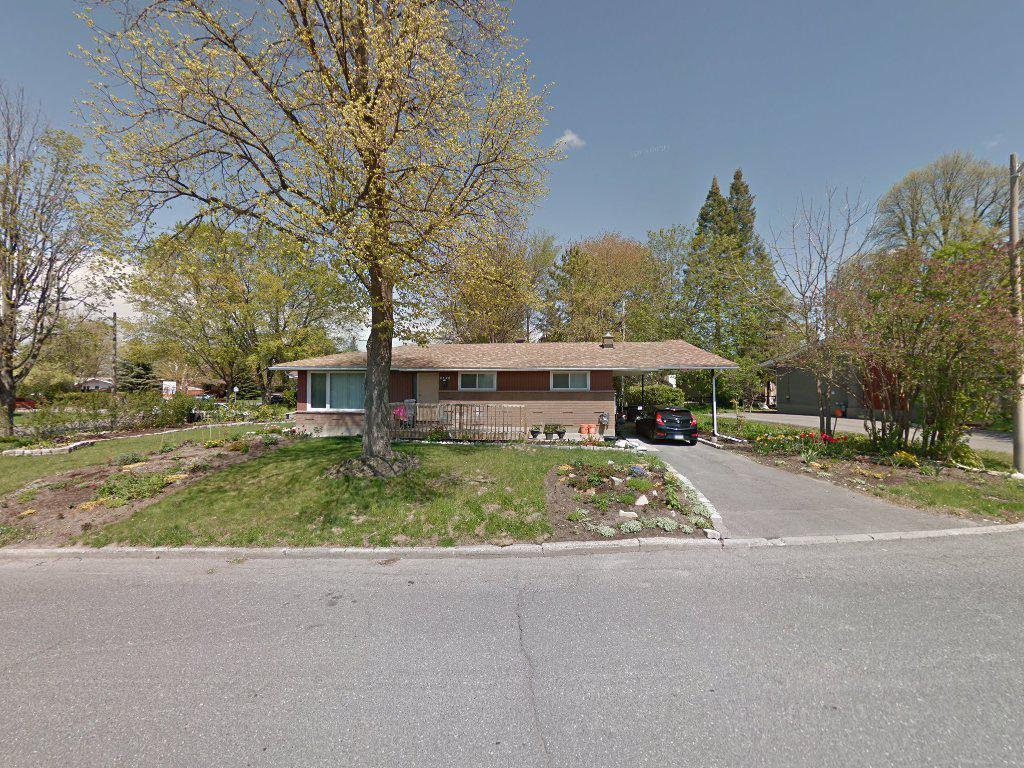trunk: (356, 298, 400, 496)
